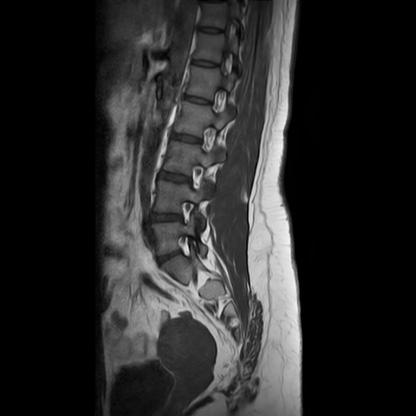Disc Bulgerotation: (149, 210, 183, 227)
Disc Protrusionrotation: (157, 250, 183, 266)
